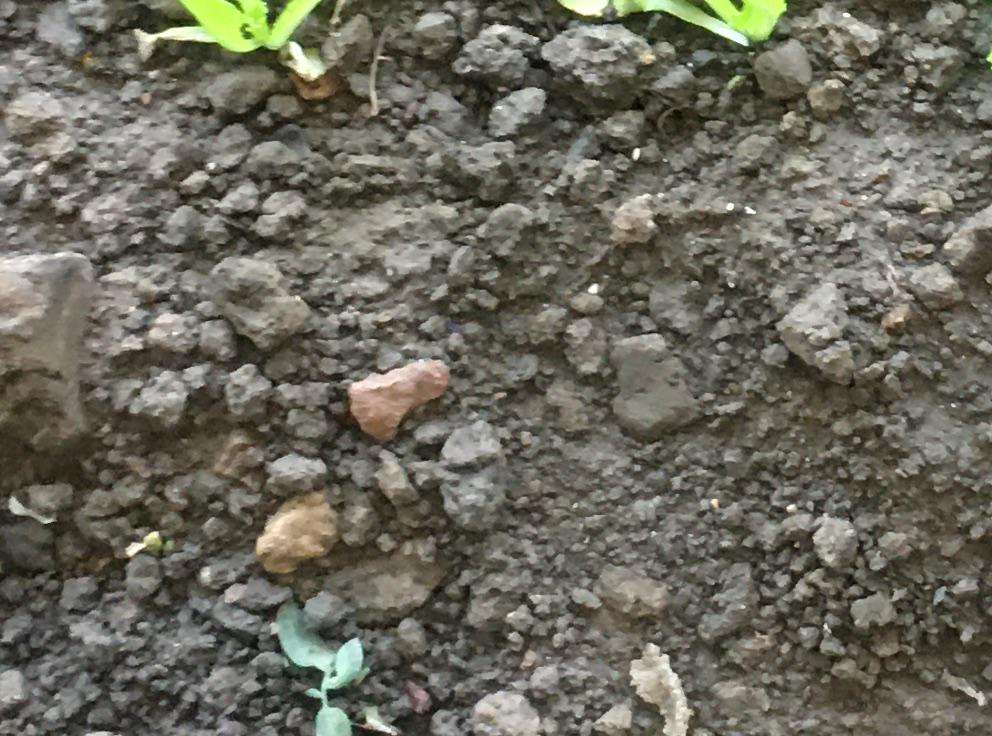block: (1, 253, 90, 464)
